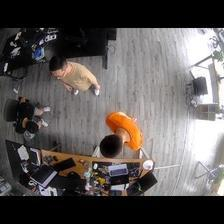normal: (100, 109, 145, 160), (49, 56, 100, 96), (12, 97, 50, 133)
